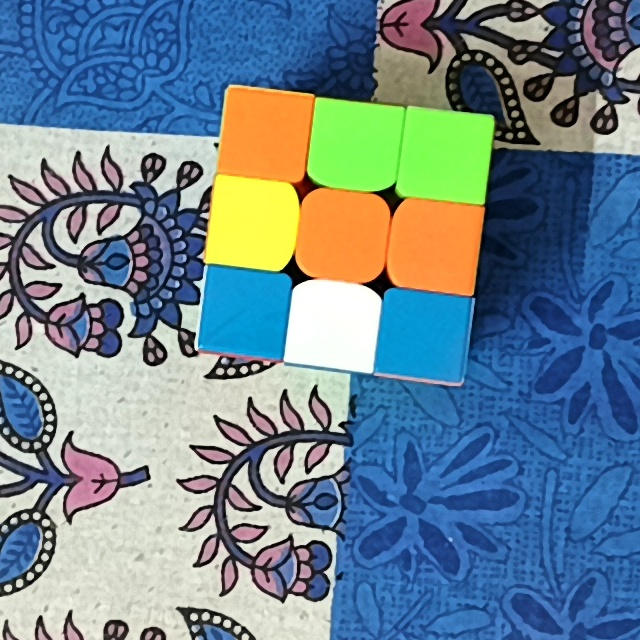tile: (312, 195, 376, 272), (404, 213, 473, 284), (414, 121, 481, 192), (393, 301, 460, 370), (234, 98, 297, 169), (209, 278, 280, 339), (326, 111, 389, 178), (297, 295, 368, 354), (224, 190, 280, 257)
